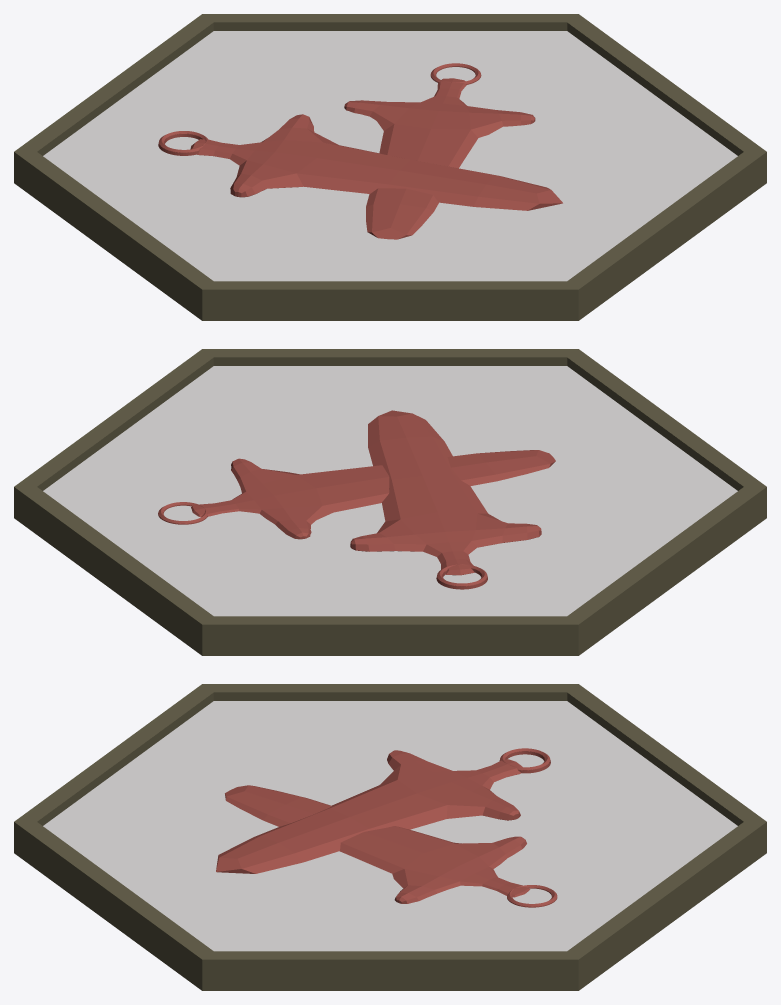
The model's file is ChanllengeDice.fbx.
3 renders of one model, top to bottom at view 1: azimuth 30°, elevation 25°; view 2: azimuth 150°, elevation 25°; view 3: azimuth 270°, elevation 25°, orthographic.
Parts seen in each view (by area): view 1: Chanllenge; view 2: Chanllenge; view 3: Chanllenge.
Boxes of the visible parts, x1,y1,x2,y2 form: Chanllenge: (14,14,766,320); Chanllenge: (14,349,766,655); Chanllenge: (14,684,766,990).
Bounding box in the file's own units: 314 × 16.69 × 363.
